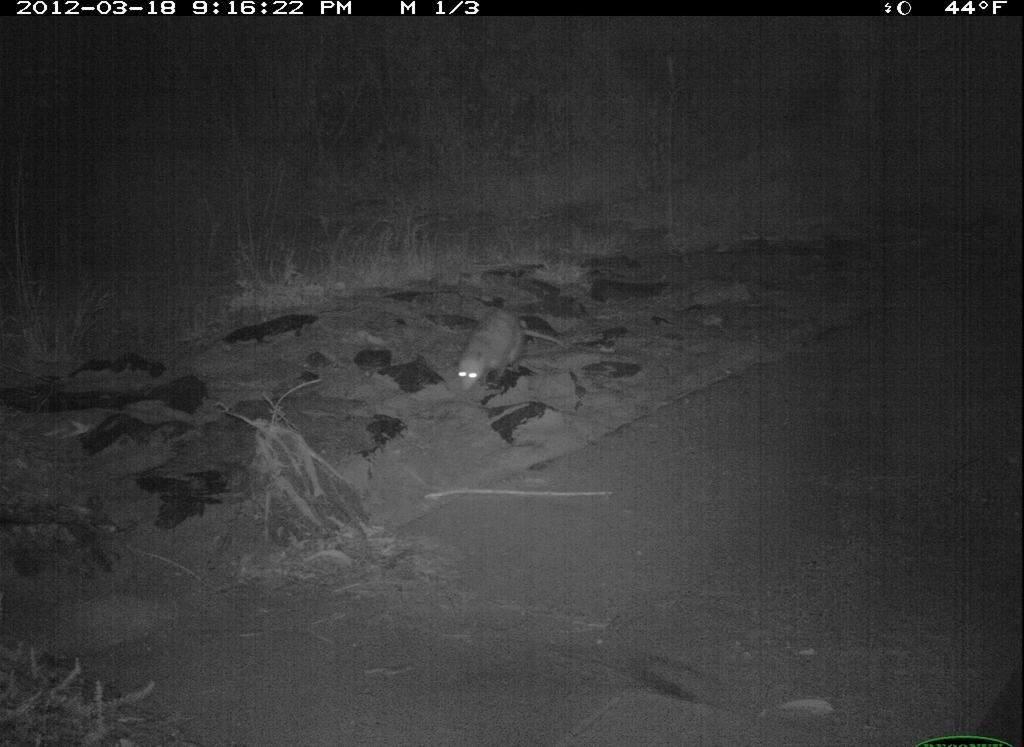opossum: (443, 297, 574, 406)
